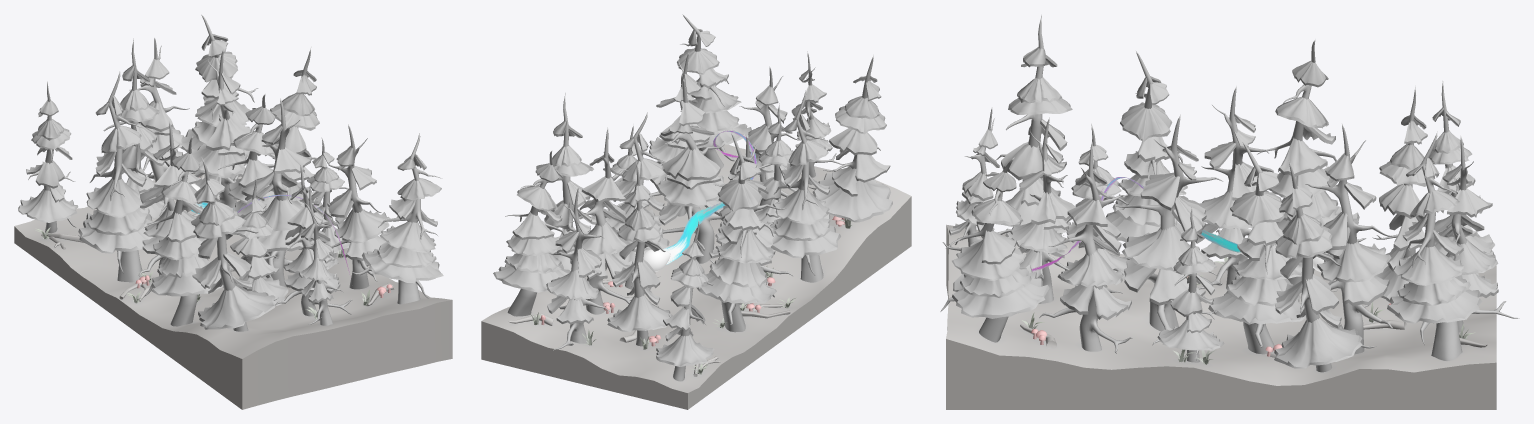
3 renders of one model, left to right at view 1: azimuth 30°, elevation 25°; view 2: azimuth 150°, elevation 25°; view 3: azimuth 270°, elevation 25°, orthographic. The views are drawn at different scales.
Visible parts, largest first — view 1: Trees_1, Ground_Floor_1; view 2: Trees_1, Ground_Floor_1, Wisp; view 3: Trees_1, Ground_Floor_1, Wisp.
Boxes of the visible parts, bbox=[...] form: Trees_1: bbox=[18, 14, 443, 331]; Ground_Floor_1: bbox=[14, 171, 452, 409]; Trees_1: bbox=[493, 14, 892, 381]; Ground_Floor_1: bbox=[481, 144, 911, 409]; Wisp: bbox=[643, 130, 756, 271]; Trees_1: bbox=[940, 15, 1519, 372]; Ground_Floor_1: bbox=[946, 224, 1496, 409]; Wisp: bbox=[1031, 177, 1329, 272].
Size of the model in its own units: 88.26 by 79.5 by 154.
